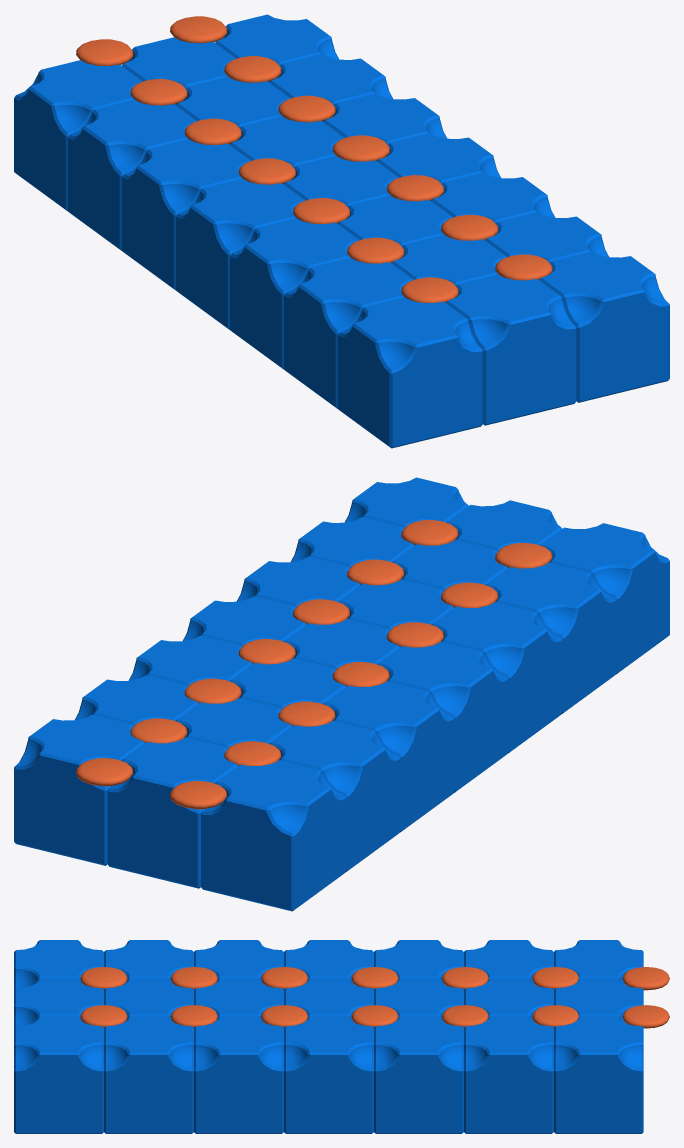
The model's file is End2_Road1.fbx.
The picture shows the model from 3 angles, top to bottom: view 1: azimuth 30°, elevation 25°; view 2: azimuth 150°, elevation 25°; view 3: azimuth 270°, elevation 25°; orthographic projection. The views are drawn at different scales.
Visible parts, largest first — view 1: Cube.002; view 2: Cube.002; view 3: Cube.002.
Part boxes in pixels (x1,y1,x2,y2): Cube.002: (14,14,669,448); Cube.002: (14,477,669,911); Cube.002: (14,940,669,1133).
Bounding box in the file's own units: 600 × 205 × 1458.
